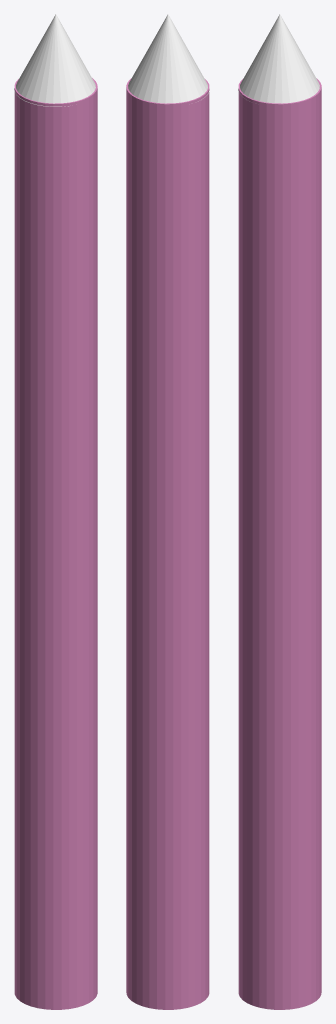
3 views of the same model, side by side, from view 1: azimuth 30°, elevation 25°; view 2: azimuth 210°, elevation 25°; view 3: azimuth 330°, elevation 25° (orthographic).
Parts seen in each view (by area): view 1: tmp_export_Cone; view 2: tmp_export_Cone; view 3: tmp_export_Cone.
Boxes of the visible parts, left/top/right/bottom form: tmp_export_Cone: left=14, top=14, right=97, bottom=1009; tmp_export_Cone: left=126, top=14, right=209, bottom=1009; tmp_export_Cone: left=238, top=14, right=321, bottom=1009.
Size of the model in its own units: 2.01 by 2 by 25.92.
